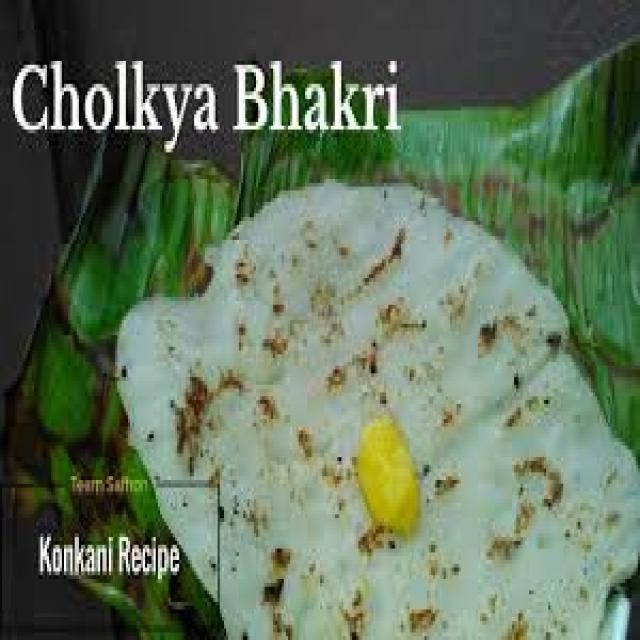RICE BHAKRI: (119, 178, 638, 636)
